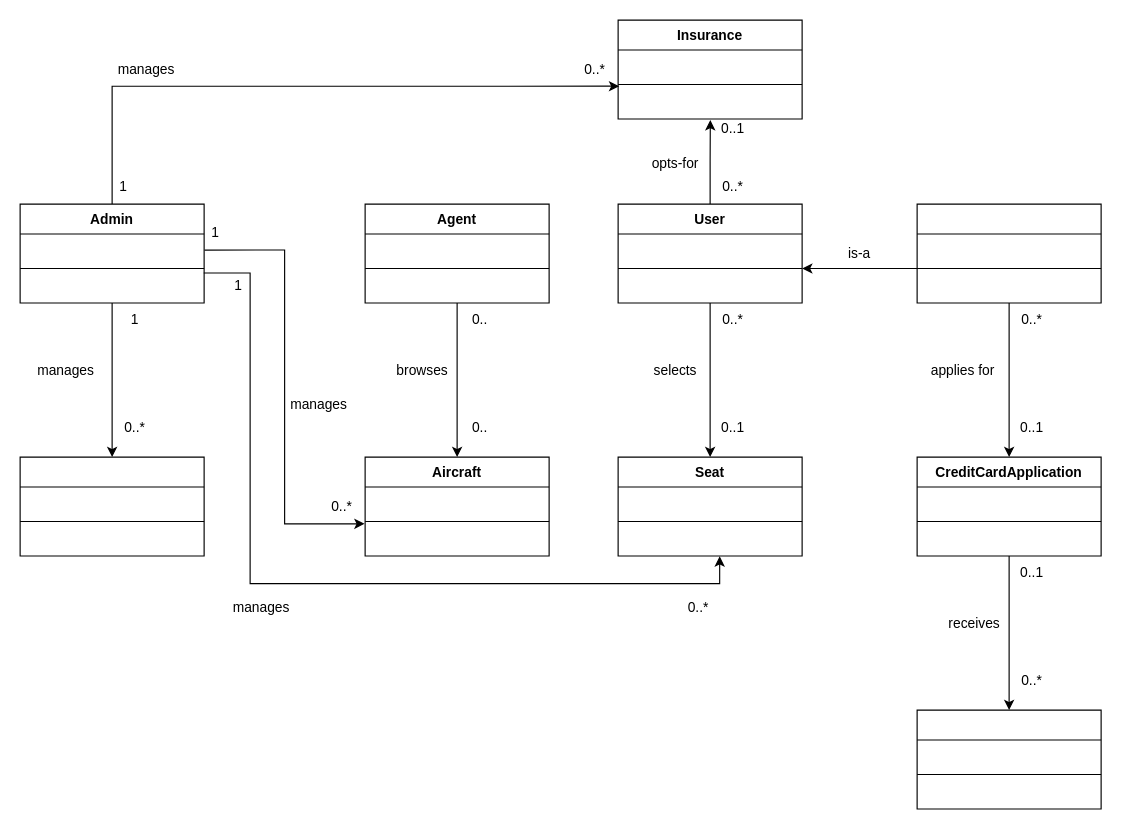
The diagram is 1121 pixels wide and 833 high, and some of its shapes have lost their labels. Here are the shapes that lost their labels. From the top down, the centre of each, then its label:
At (x=1008, y=253): "RegisteredUser".
At (x=111, y=506): "Flight".
At (x=1008, y=759): "Email".
